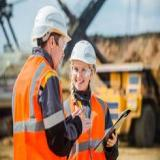Helmet: (31, 6, 72, 43), (68, 40, 97, 67)
Vest: (12, 52, 68, 160), (63, 93, 108, 160)
